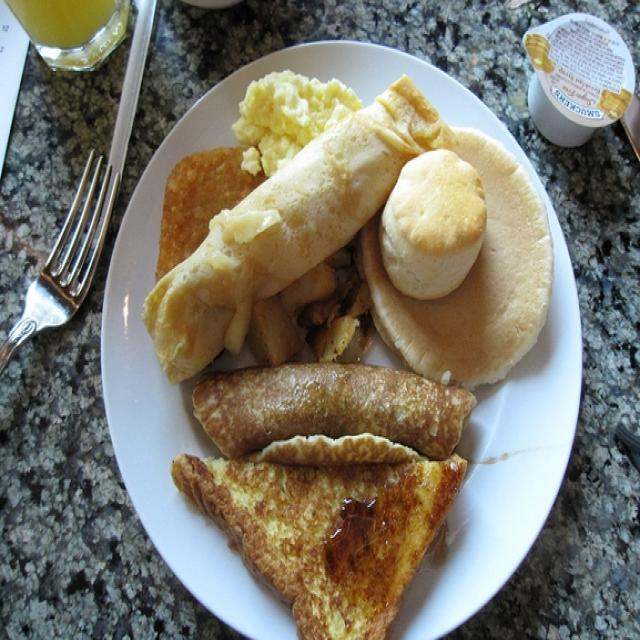面包点心: (43, 13, 601, 621)
